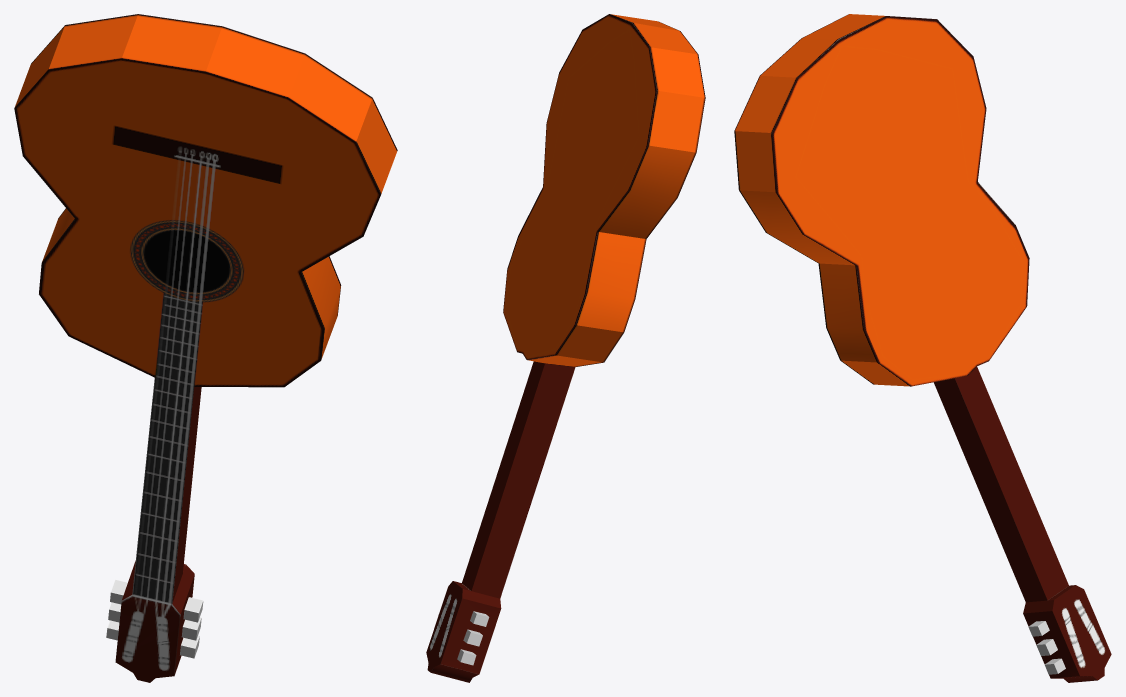
Rendered from Guitarra2_000021.obj.
3 renders of one model, left to right at view 1: azimuth 30°, elevation 25°; view 2: azimuth 150°, elevation 25°; view 3: azimuth 270°, elevation 25°, orthographic. The views are drawn at different scales.
Parts seen in each view (by area): view 1: g2_pPlane4.001; view 2: g2_pPlane4.001; view 3: g2_pPlane4.001.
Part boxes in pixels (x1,y1,x2,y2): g2_pPlane4.001: (14,14,397,682); g2_pPlane4.001: (426,14,705,682); g2_pPlane4.001: (734,14,1111,682).
Size of the model in its own units: 4.47 by 11.67 by 6.46.
